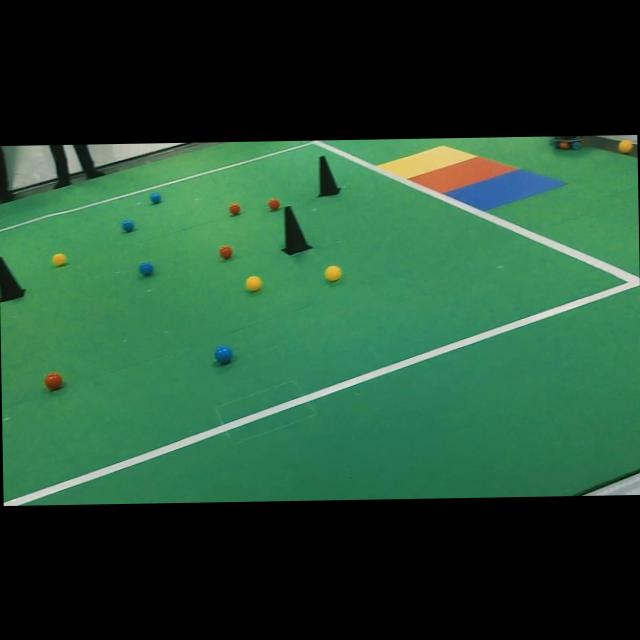ball: (43, 372, 62, 390), (214, 345, 232, 364), (324, 265, 342, 281), (246, 275, 262, 291), (139, 261, 153, 276), (51, 253, 66, 266), (219, 245, 233, 258), (228, 201, 240, 215), (268, 197, 280, 210), (122, 220, 135, 232), (149, 192, 162, 204)
goal: (447, 169, 565, 210), (410, 156, 516, 193), (377, 145, 476, 178)
